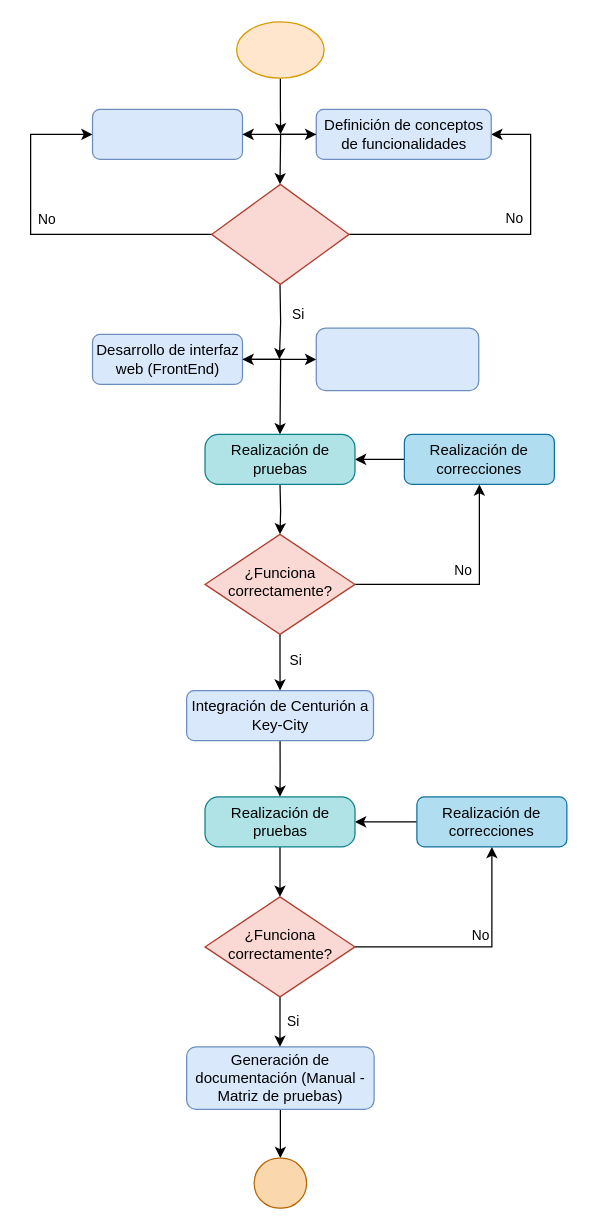
Image size: 589x1230. Some labels were removed from this diagram. Each missing label, with the centre of its shape:
"Definición de diseño de interfaz" goes at point 166,133.
"Desarrollo de funcionalidad (BackEnd)" goes at point 397,359.
"Fin" goes at point 280,1182.
"Inicio" goes at point 279,49.
"¿Diseño aprobado?" goes at point 279,233.
